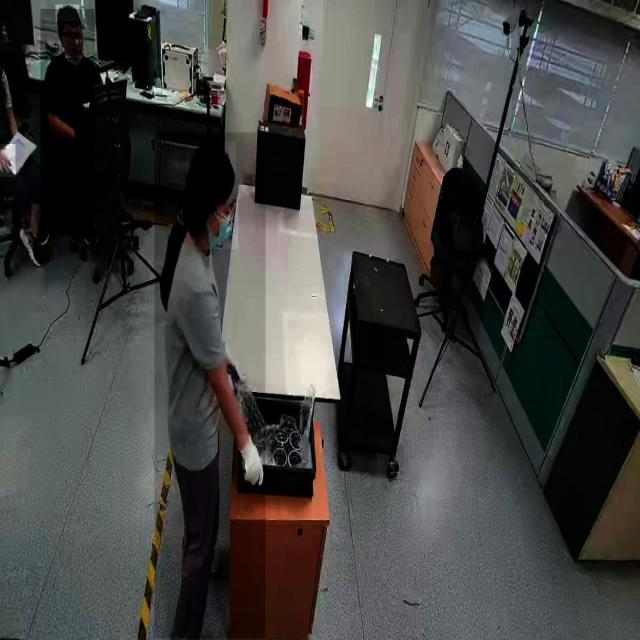face_mask: (200, 196, 238, 249)
face_nomask: (59, 24, 83, 59)
hand_glove: (236, 434, 264, 492)
hand_noglove: (0, 144, 16, 178)
head_nohelmet: (187, 142, 237, 196), (56, 5, 80, 22)
person: (154, 133, 266, 639), (41, 9, 95, 236)
shoes: (19, 226, 47, 272)
